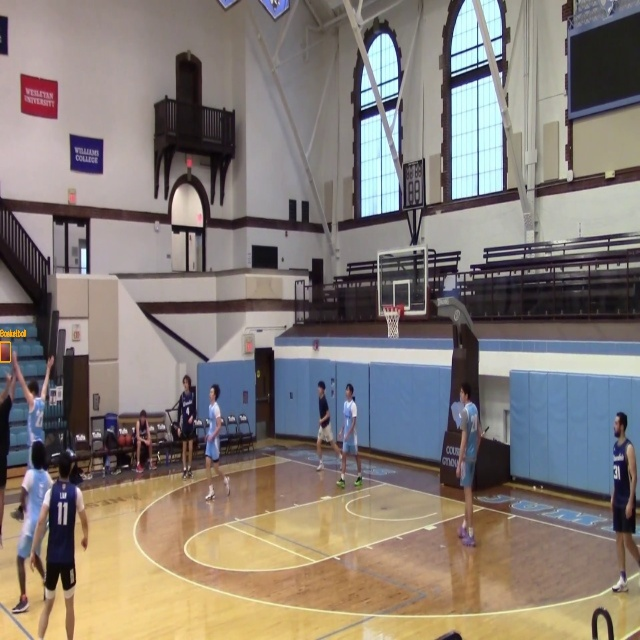Basketball: (0, 342, 10, 361)
